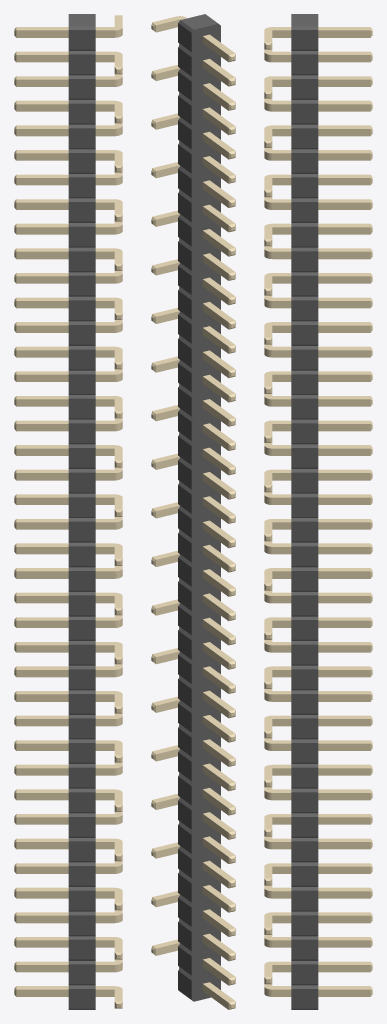
The model's file is PinHeader_1x40_P1.00mm_Vertical_SMD_Pin1Left.glb.
3 renders of one model, left to right at view 1: azimuth 90°, elevation 25°; view 2: azimuth 210°, elevation 25°; view 3: azimuth 270°, elevation 25°, orthographic.
Parts seen in each view (by area): view 1: Shape_IndexedFaceSet.145, Shape_IndexedFaceSet.025, Shape_IndexedFaceSet.055, Shape_IndexedFaceSet.067, Shape_IndexedFaceSet.085, Shape_IndexedFaceSet.097, Shape_IndexedFaceSet.115, Shape_IndexedFaceSet.127, Shape_IndexedFaceSet.157, Shape_IndexedFaceSet.187, Shape_IndexedFaceSet.217, Shape_IndexedFaceSet.229 (+69 smaller); view 2: Shape_IndexedFaceSet.004, Shape_IndexedFaceSet.001, Shape_IndexedFaceSet.010, Shape_IndexedFaceSet.016, Shape_IndexedFaceSet.040, Shape_IndexedFaceSet.052, Shape_IndexedFaceSet.058, Shape_IndexedFaceSet.070, Shape_IndexedFaceSet.094, Shape_IndexedFaceSet.100, Shape_IndexedFaceSet.118, Shape_IndexedFaceSet.130 (+30 smaller); view 3: Shape_IndexedFaceSet.142, Shape_IndexedFaceSet.022, Shape_IndexedFaceSet.052, Shape_IndexedFaceSet.064, Shape_IndexedFaceSet.082, Shape_IndexedFaceSet.094, Shape_IndexedFaceSet.112, Shape_IndexedFaceSet.124, Shape_IndexedFaceSet.154, Shape_IndexedFaceSet.184, Shape_IndexedFaceSet.214, Shape_IndexedFaceSet.226 (+69 smaller).
Part boxes in pixels (left/top/right/bottom): Shape_IndexedFaceSet.145: left=68, top=595, right=95, bottom=615; Shape_IndexedFaceSet.025: left=68, top=103, right=95, bottom=123; Shape_IndexedFaceSet.055: left=68, top=226, right=95, bottom=246; Shape_IndexedFaceSet.067: left=68, top=275, right=95, bottom=295; Shape_IndexedFaceSet.085: left=68, top=349, right=95, bottom=369; Shape_IndexedFaceSet.097: left=68, top=398, right=95, bottom=418; Shape_IndexedFaceSet.115: left=68, top=472, right=95, bottom=492; Shape_IndexedFaceSet.127: left=68, top=521, right=95, bottom=541; Shape_IndexedFaceSet.157: left=68, top=644, right=95, bottom=664; Shape_IndexedFaceSet.187: left=68, top=767, right=95, bottom=787; Shape_IndexedFaceSet.217: left=68, top=890, right=95, bottom=910; Shape_IndexedFaceSet.229: left=68, top=939, right=95, bottom=959; Shape_IndexedFaceSet.004: left=191, top=24, right=220, bottom=1001; Shape_IndexedFaceSet.001: left=181, top=14, right=218, bottom=29; Shape_IndexedFaceSet.010: left=178, top=47, right=191, bottom=76; Shape_IndexedFaceSet.016: left=178, top=72, right=191, bottom=100; Shape_IndexedFaceSet.040: left=178, top=169, right=191, bottom=197; Shape_IndexedFaceSet.052: left=178, top=217, right=191, bottom=246; Shape_IndexedFaceSet.058: left=178, top=242, right=191, bottom=270; Shape_IndexedFaceSet.070: left=178, top=290, right=191, bottom=319; Shape_IndexedFaceSet.094: left=178, top=387, right=191, bottom=416; Shape_IndexedFaceSet.100: left=178, top=412, right=191, bottom=440; Shape_IndexedFaceSet.118: left=178, top=485, right=191, bottom=513; Shape_IndexedFaceSet.130: left=178, top=533, right=191, bottom=562; Shape_IndexedFaceSet.142: left=291, top=595, right=318, bottom=615; Shape_IndexedFaceSet.022: left=291, top=103, right=318, bottom=123; Shape_IndexedFaceSet.052: left=291, top=226, right=318, bottom=246; Shape_IndexedFaceSet.064: left=291, top=275, right=318, bottom=295; Shape_IndexedFaceSet.082: left=291, top=349, right=318, bottom=369; Shape_IndexedFaceSet.094: left=291, top=398, right=318, bottom=418; Shape_IndexedFaceSet.112: left=291, top=472, right=318, bottom=492; Shape_IndexedFaceSet.124: left=291, top=521, right=318, bottom=541; Shape_IndexedFaceSet.154: left=291, top=644, right=318, bottom=664; Shape_IndexedFaceSet.184: left=291, top=767, right=318, bottom=787; Shape_IndexedFaceSet.214: left=291, top=890, right=318, bottom=910; Shape_IndexedFaceSet.226: left=291, top=939, right=318, bottom=959.
Size of the model in its own units: 0.984 by 15.75 by 1.58.
